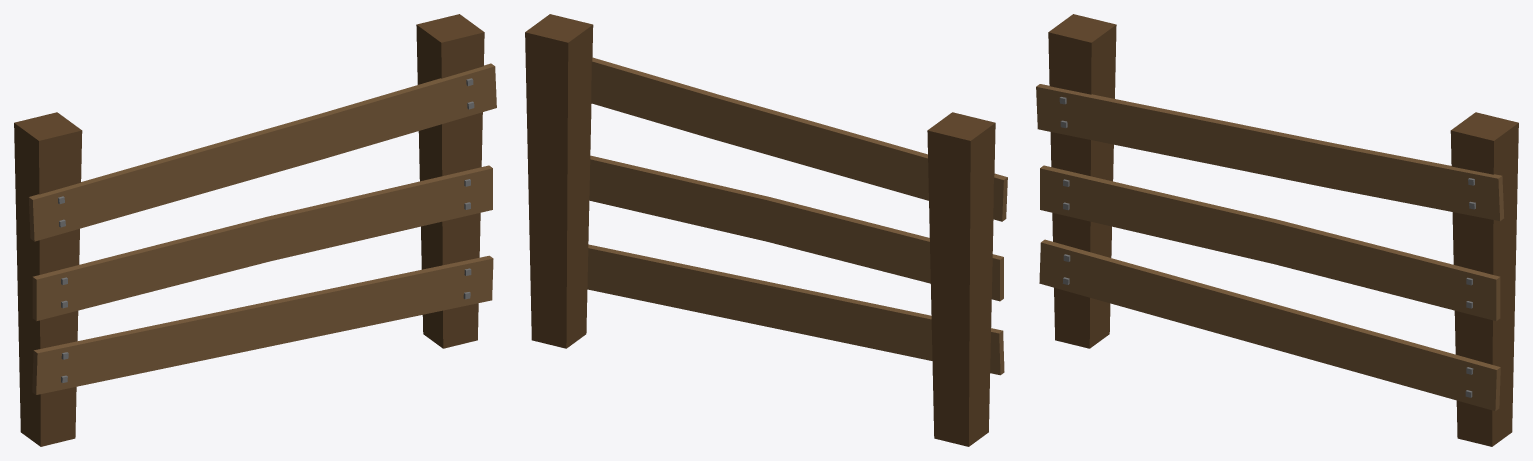
Rendered from Mesh_Props_Fence_02.FBX.
3 renders of one model, left to right at view 1: azimuth 30°, elevation 25°; view 2: azimuth 150°, elevation 25°; view 3: azimuth 330°, elevation 25°, orthographic.
Visible parts, largest first — view 1: Mesh_Props_Fence_02; view 2: Mesh_Props_Fence_02; view 3: Mesh_Props_Fence_02.
Boxes of the visible parts, x1,y1,x2,y2 form: Mesh_Props_Fence_02: (14, 14, 496, 446); Mesh_Props_Fence_02: (525, 14, 1007, 446); Mesh_Props_Fence_02: (1036, 14, 1518, 446).
Size of the model in its own units: 68.11 by 43.31 by 7.49.
